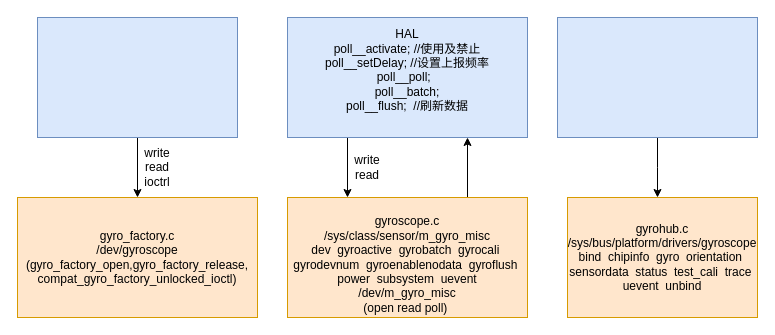
This 775x335 diagram has some shape labels left out. The shapes that lost their labels are listed below. From the top down, each one's centre as x and y in pixels, then its label:
point (137, 77): factory mode
point (657, 77): 查看sensor原始数据状态等
